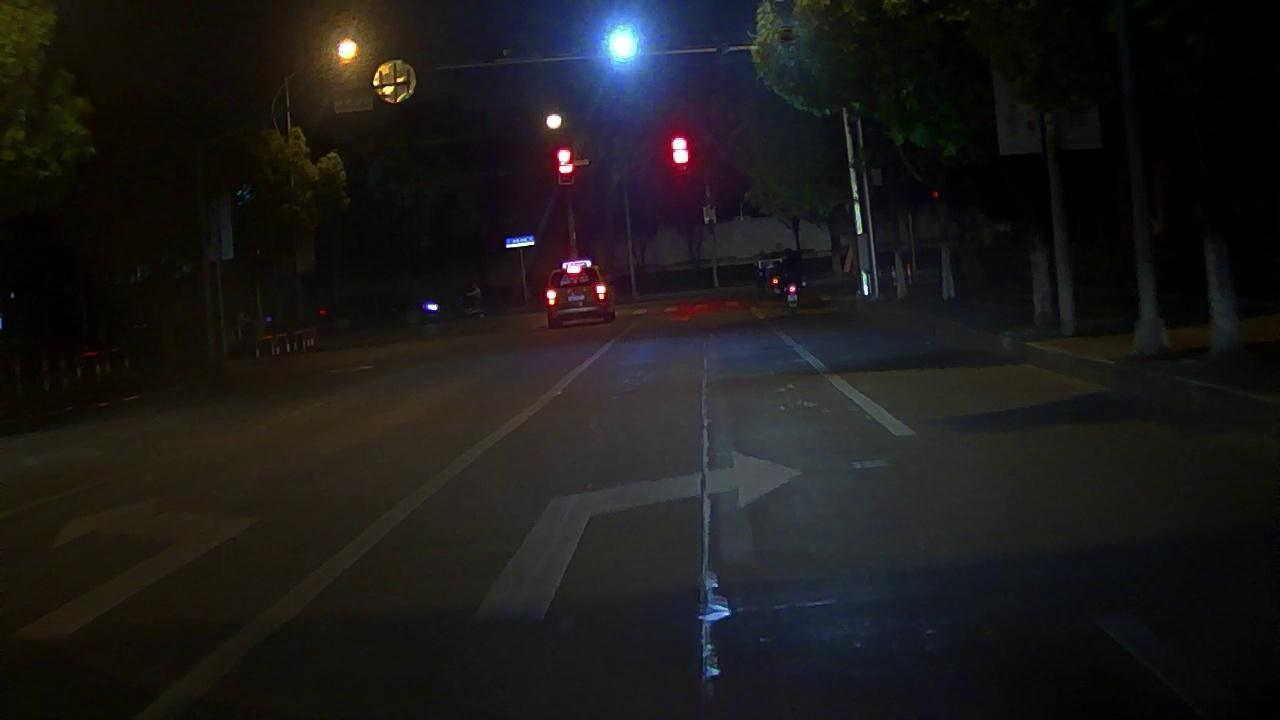traffic_light: (670, 133, 691, 172), (556, 145, 572, 182)
